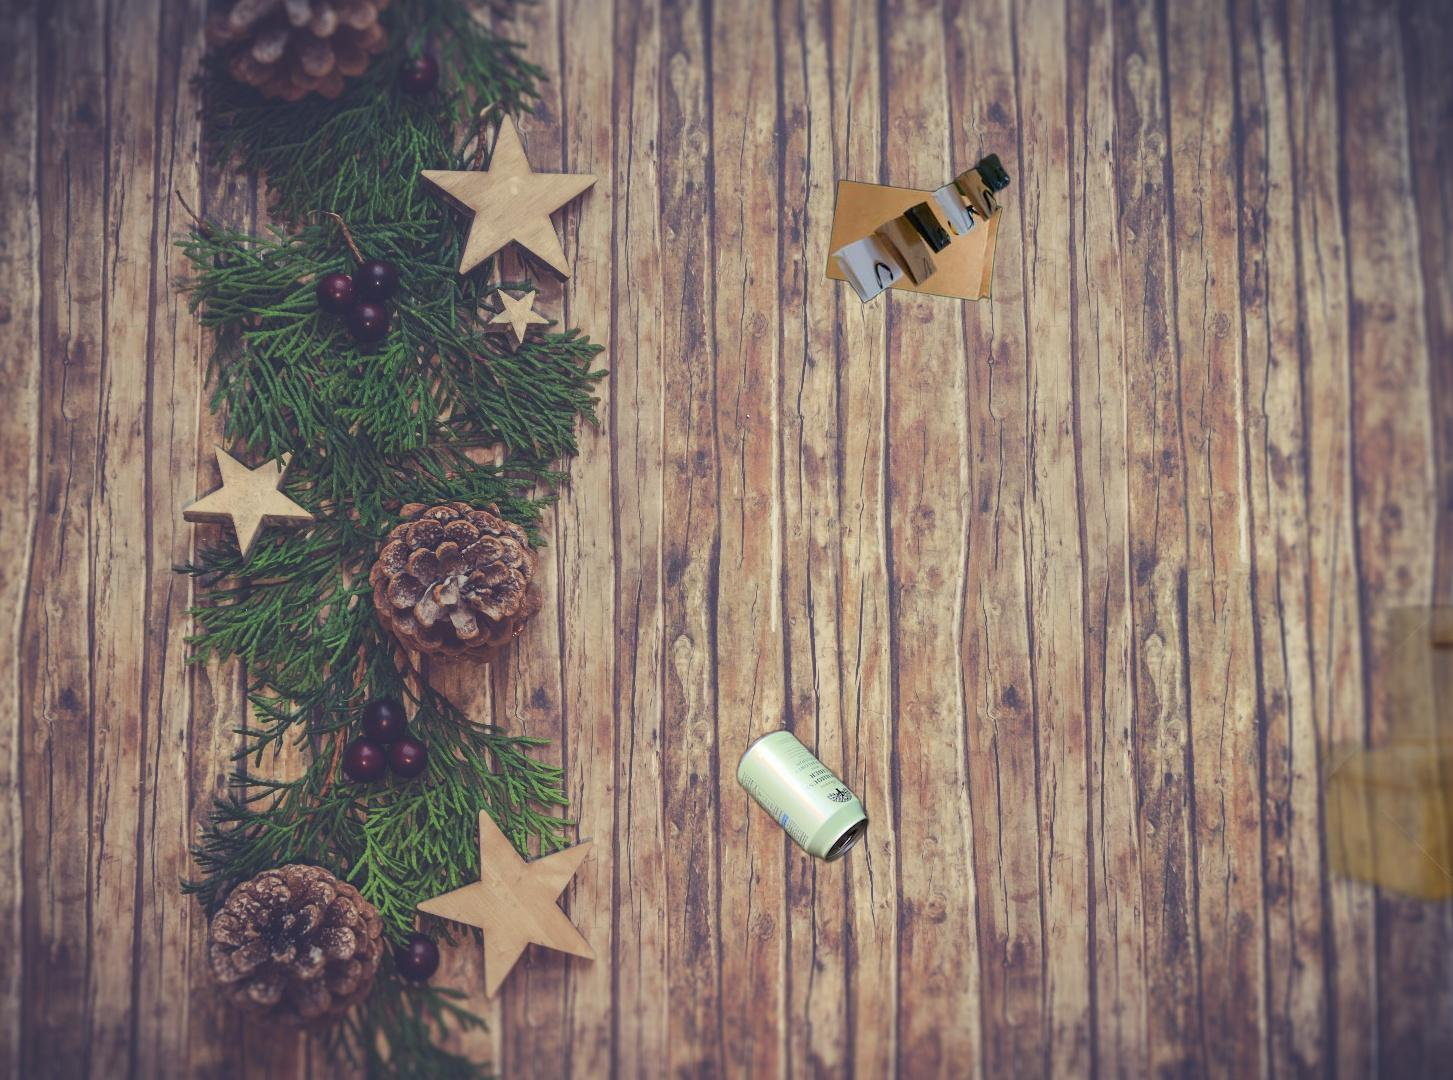metal-cans: (618, 724, 1130, 1080)
paper-bag: (823, 151, 1012, 305)
trashbox-cardboard: (1286, 587, 1453, 1080)
